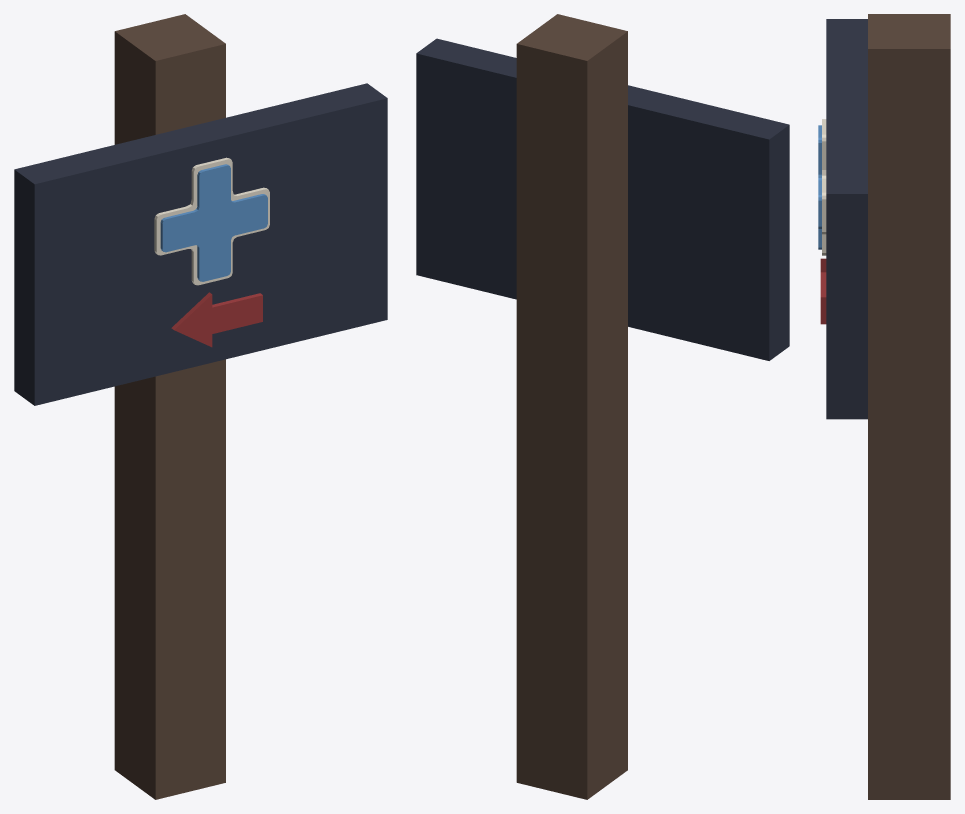
The model's file is pharmacy_signLeft.fbx.
3 views of the same model, side by side, from view 1: azimuth 30°, elevation 25°; view 2: azimuth 150°, elevation 25°; view 3: azimuth 270°, elevation 25° (orthographic).
Visible parts, largest first — view 1: pharmacy_signLeft; view 2: pharmacy_signLeft; view 3: pharmacy_signLeft.
Boxes of the visible parts, box(x1,y1,x2,y2) form: pharmacy_signLeft: box(14, 14, 387, 799); pharmacy_signLeft: box(416, 14, 789, 799); pharmacy_signLeft: box(818, 14, 950, 799).
Size of the model in its own units: 1 by 2 by 0.3199.
